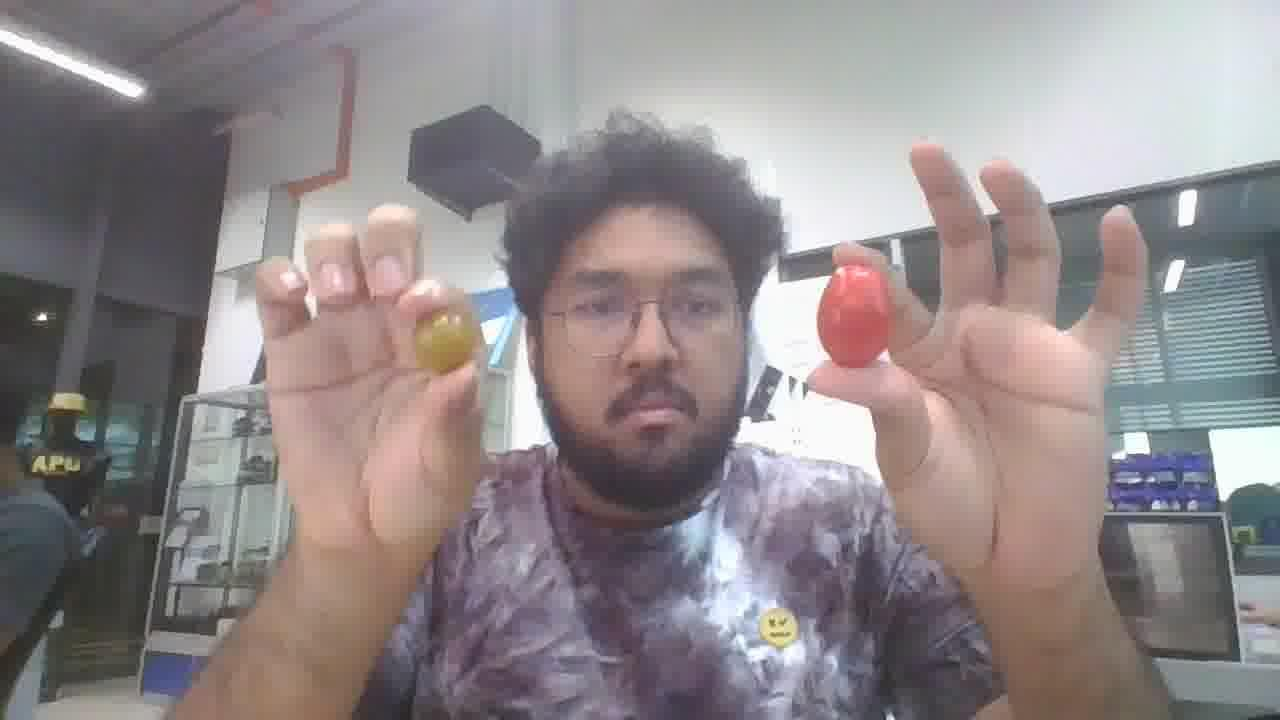red_cherry_tomato: (818, 266, 890, 367)
yellow_cherry_tomato: (415, 309, 484, 373)
